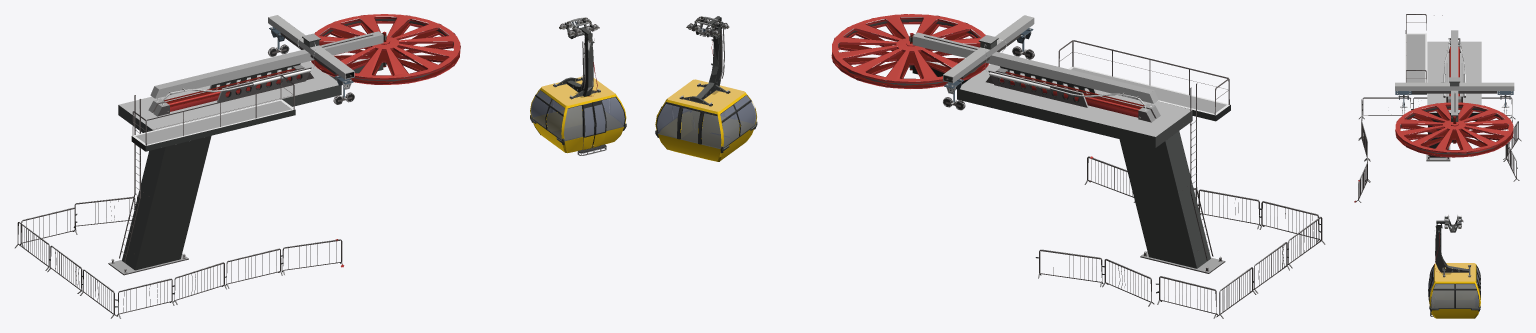
Rendered from ski-lift-station.glb.
The picture shows the model from 3 angles, left to right: view 1: azimuth 30°, elevation 25°; view 2: azimuth 150°, elevation 25°; view 3: azimuth 270°, elevation 25°; orthographic projection. The views are drawn at different scales.
Visible parts, largest first — view 1: ski-lift-station; view 2: ski-lift-station; view 3: ski-lift-station.
Boxes of the visible parts, x1,y1,x2,y2 form: ski-lift-station: (14, 14, 626, 318); ski-lift-station: (655, 14, 1325, 318); ski-lift-station: (1354, 14, 1521, 318).
Size of the model in its own units: 40.27 by 12 by 13.45.
